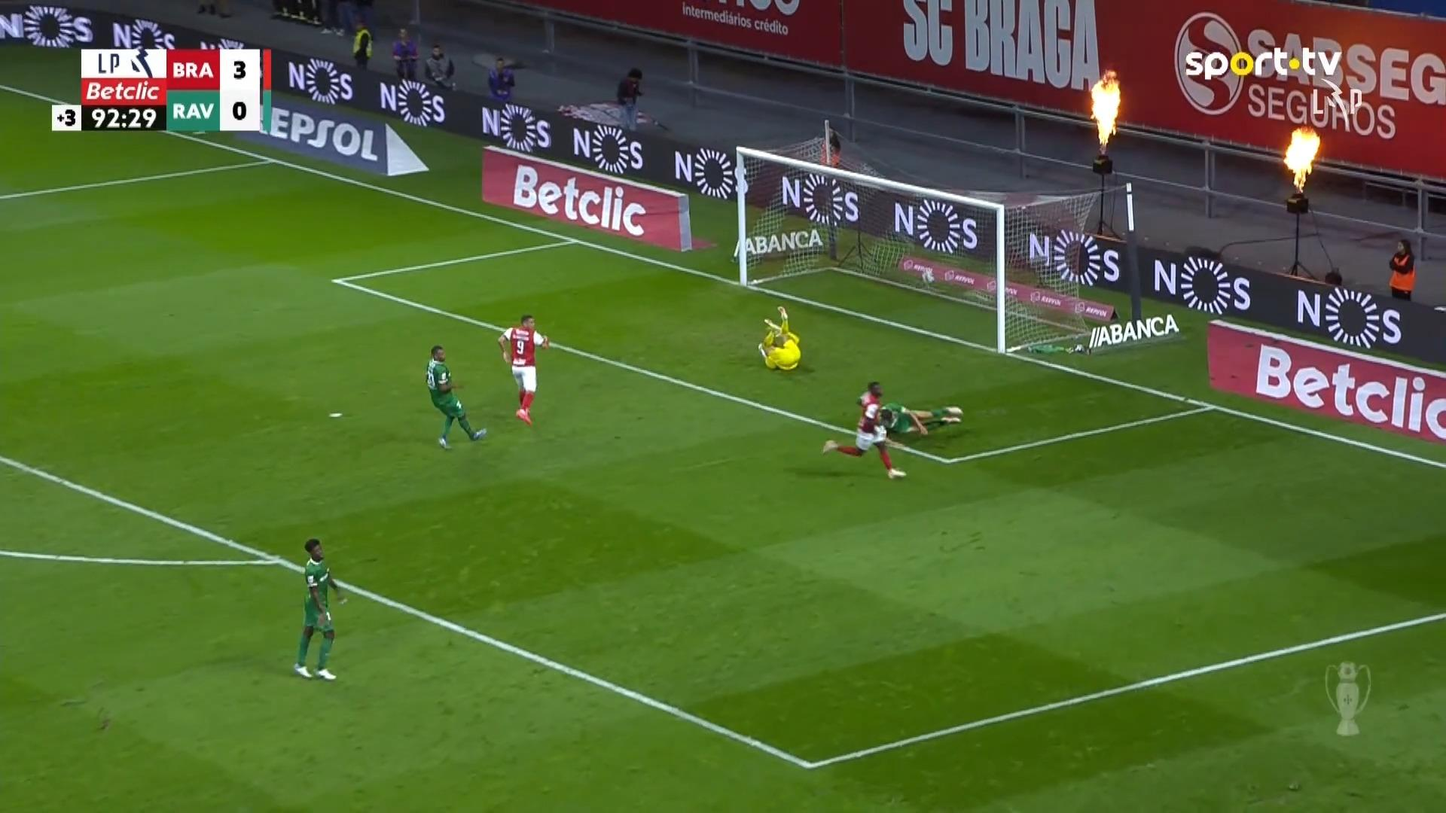ball: (922, 270, 936, 285)
goalkeeper: (757, 305, 801, 371)
player: (821, 382, 908, 479), (292, 537, 348, 680), (424, 344, 487, 449), (496, 313, 551, 425), (877, 401, 963, 435)
